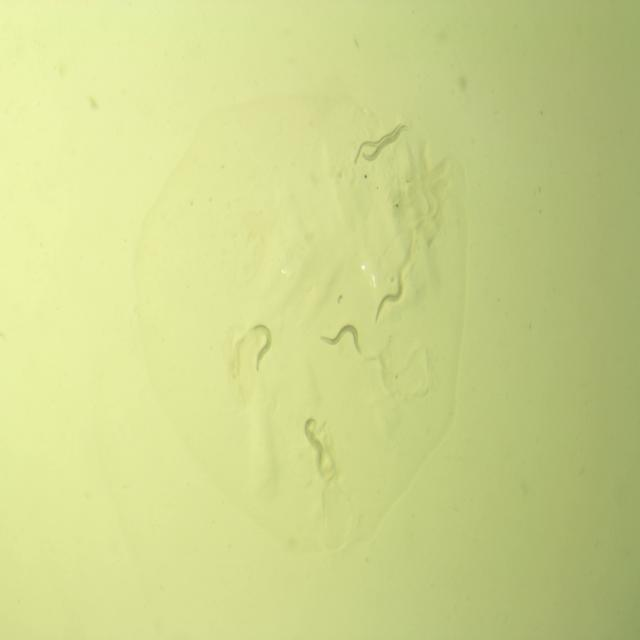worm: (351, 118, 402, 168), (296, 409, 333, 477), (360, 123, 411, 164), (372, 270, 407, 328), (319, 321, 366, 363), (247, 318, 276, 374)
